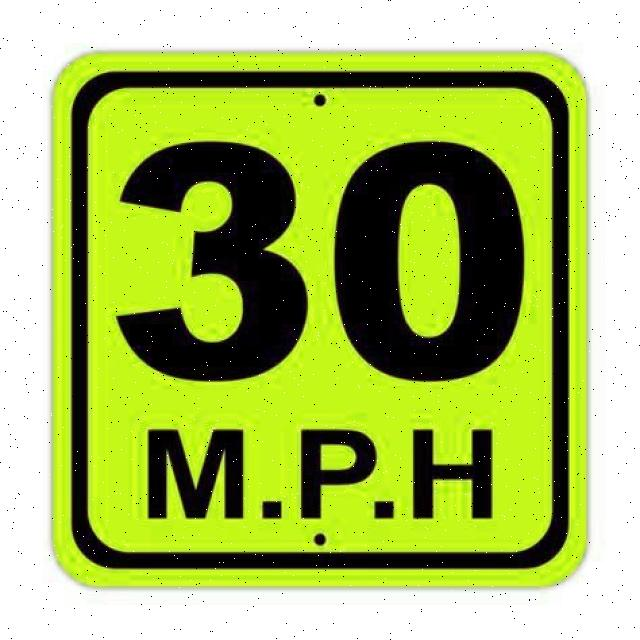speedlimit_30: (66, 54, 593, 596)
